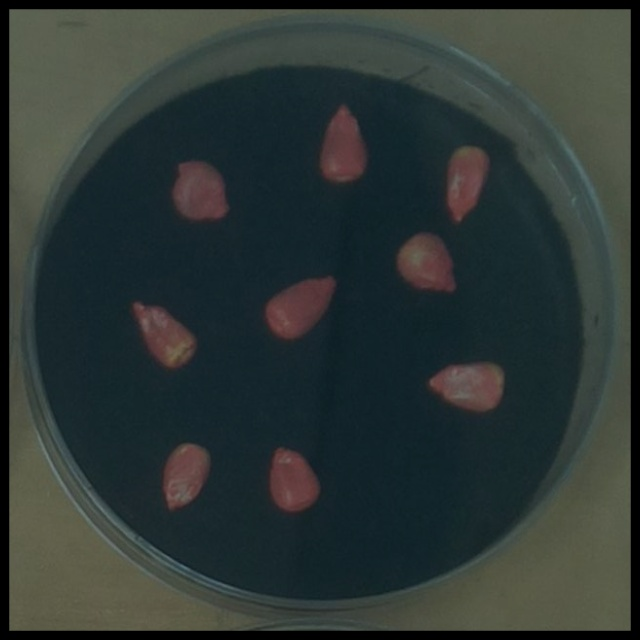Zea mays: (255, 263, 346, 350), (122, 292, 204, 378), (420, 352, 511, 420), (310, 95, 375, 189), (163, 152, 239, 231), (436, 135, 498, 229), (258, 437, 328, 520), (388, 224, 464, 299), (154, 433, 219, 516)
